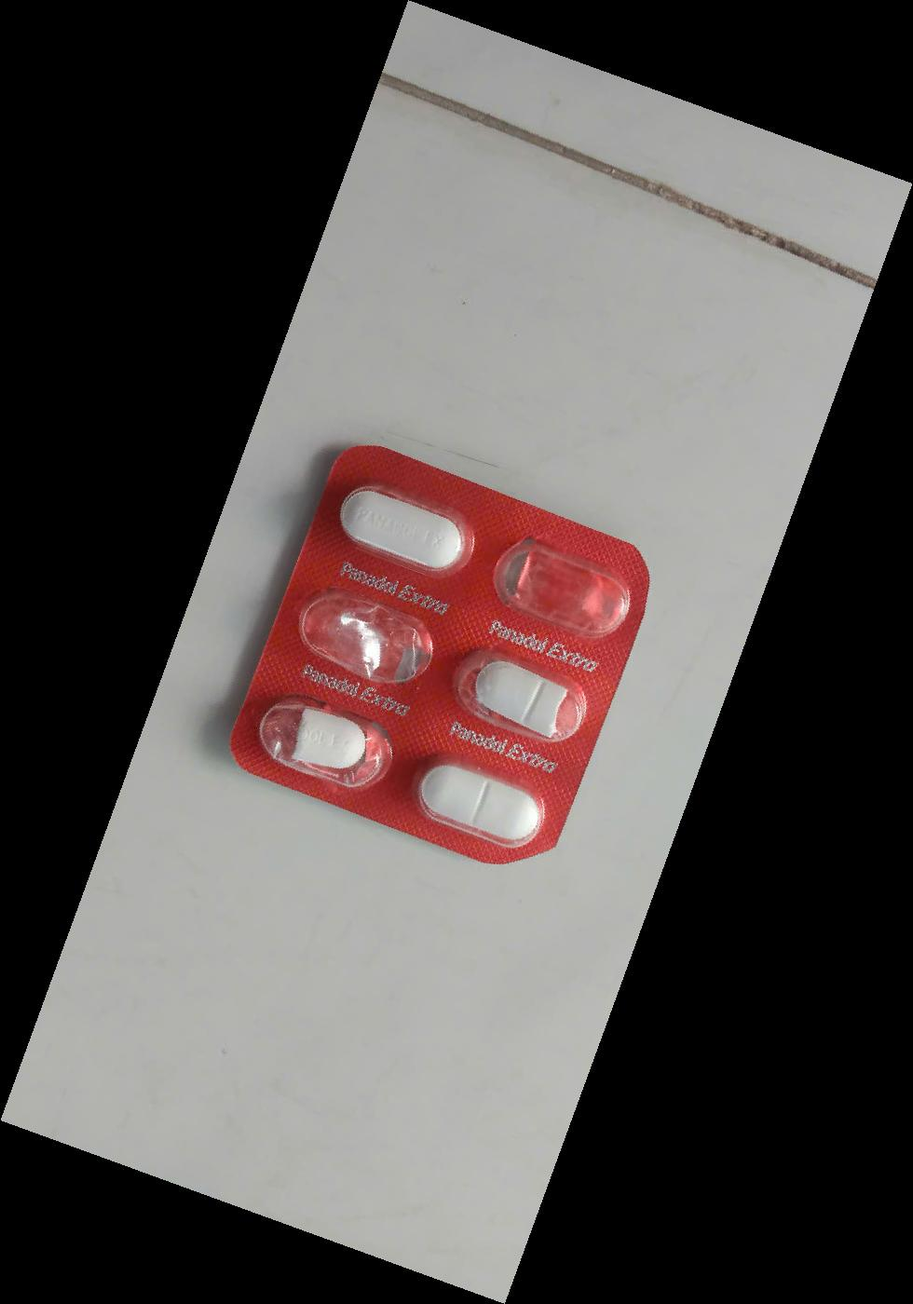Empty: (475, 521, 649, 658), (281, 567, 455, 704)
Full: (397, 732, 572, 869), (316, 458, 490, 595)
Partial: (438, 632, 613, 769), (234, 676, 408, 813)
